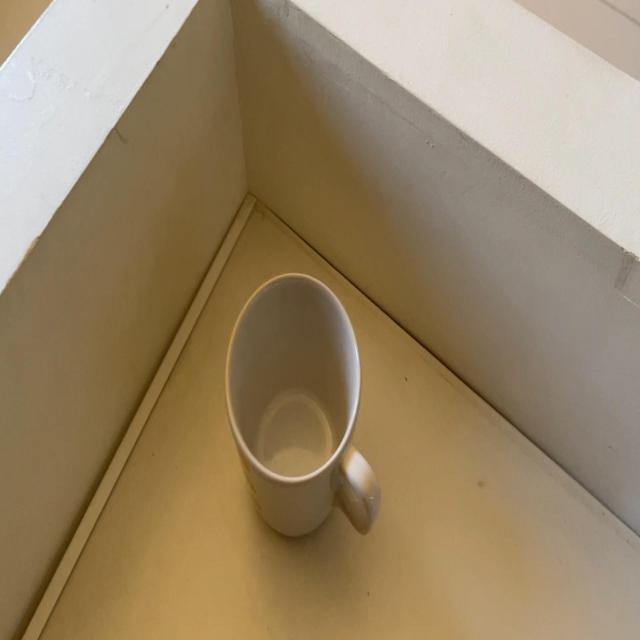cup: (226, 273, 376, 541)
